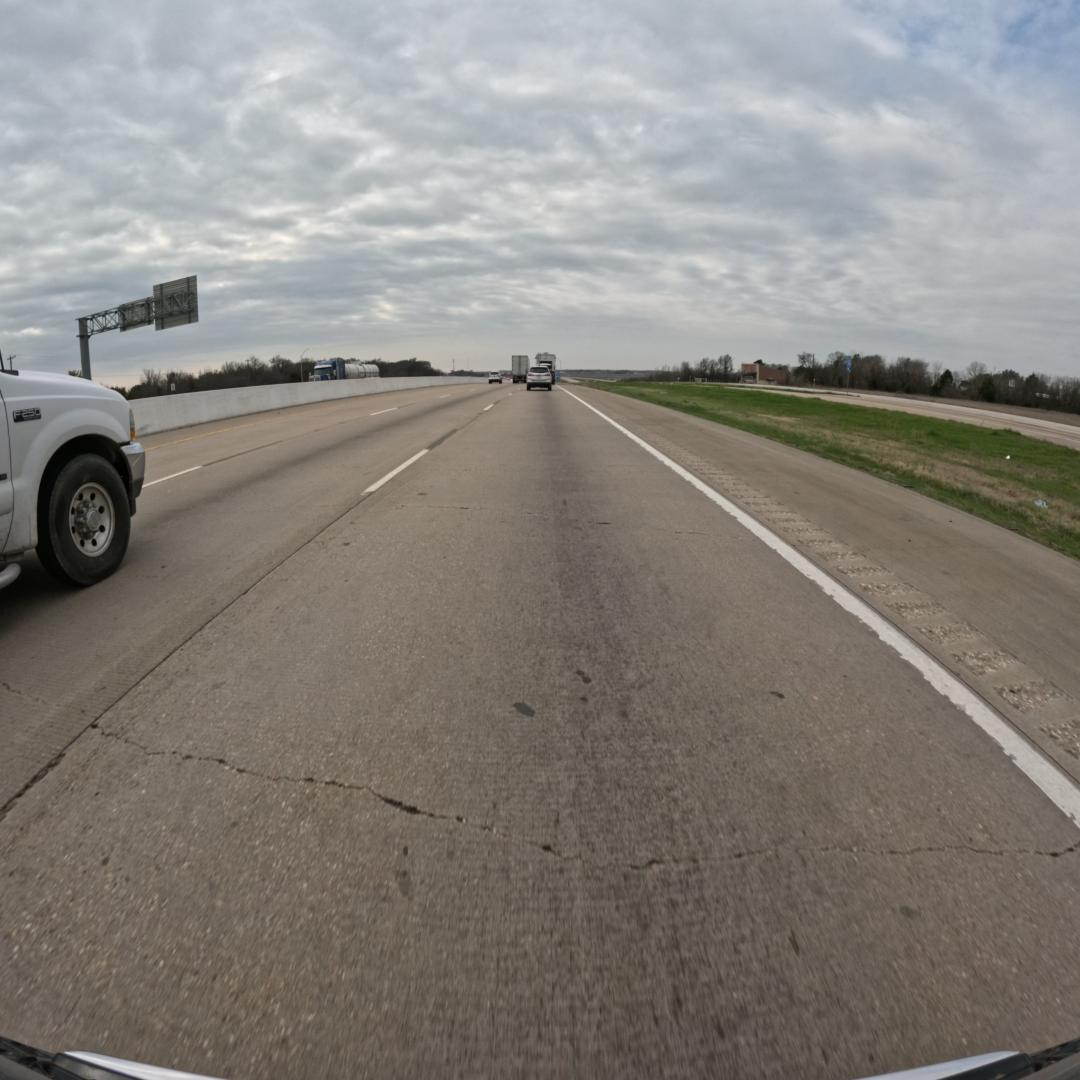lane0: (0, 392, 1080, 1077)
lane1: (0, 385, 512, 818)
